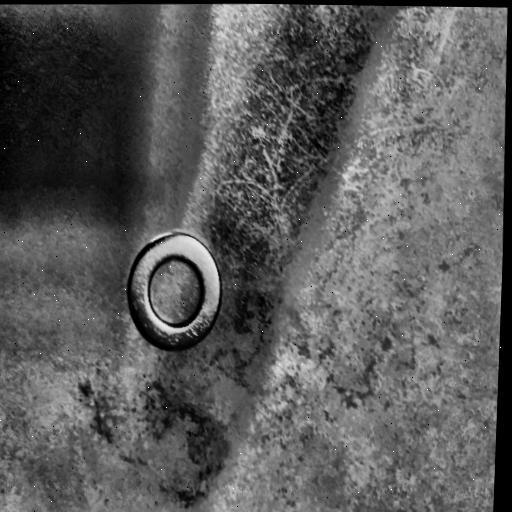Washer: (126, 231, 222, 351)
